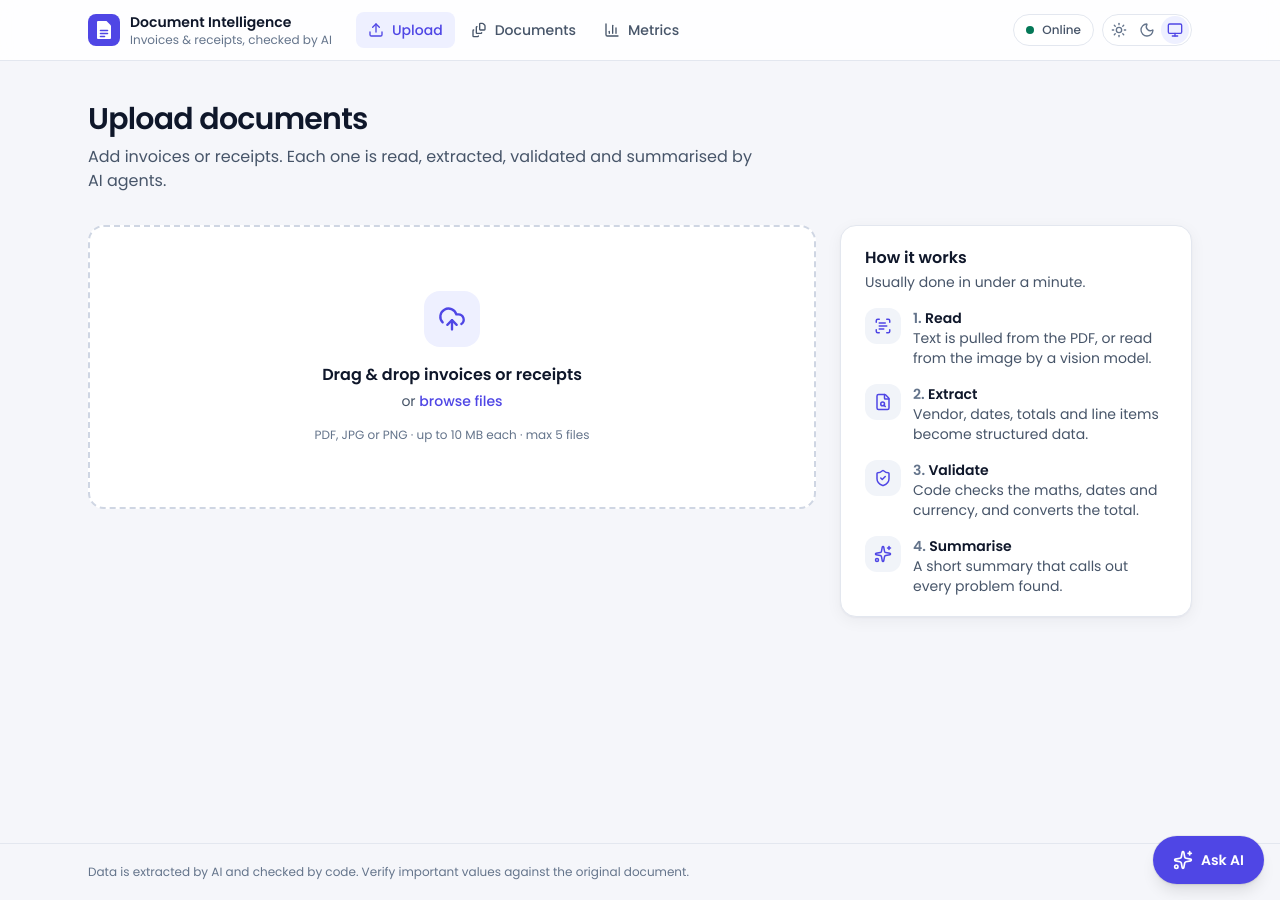
Test: Ask AI chat (feature 0010) › flags unverified numbers and shows a refusal plainly
Click the button with aria-label "Ask AI about your invoices": (1208, 860) [1153, 836, 1264, 884]
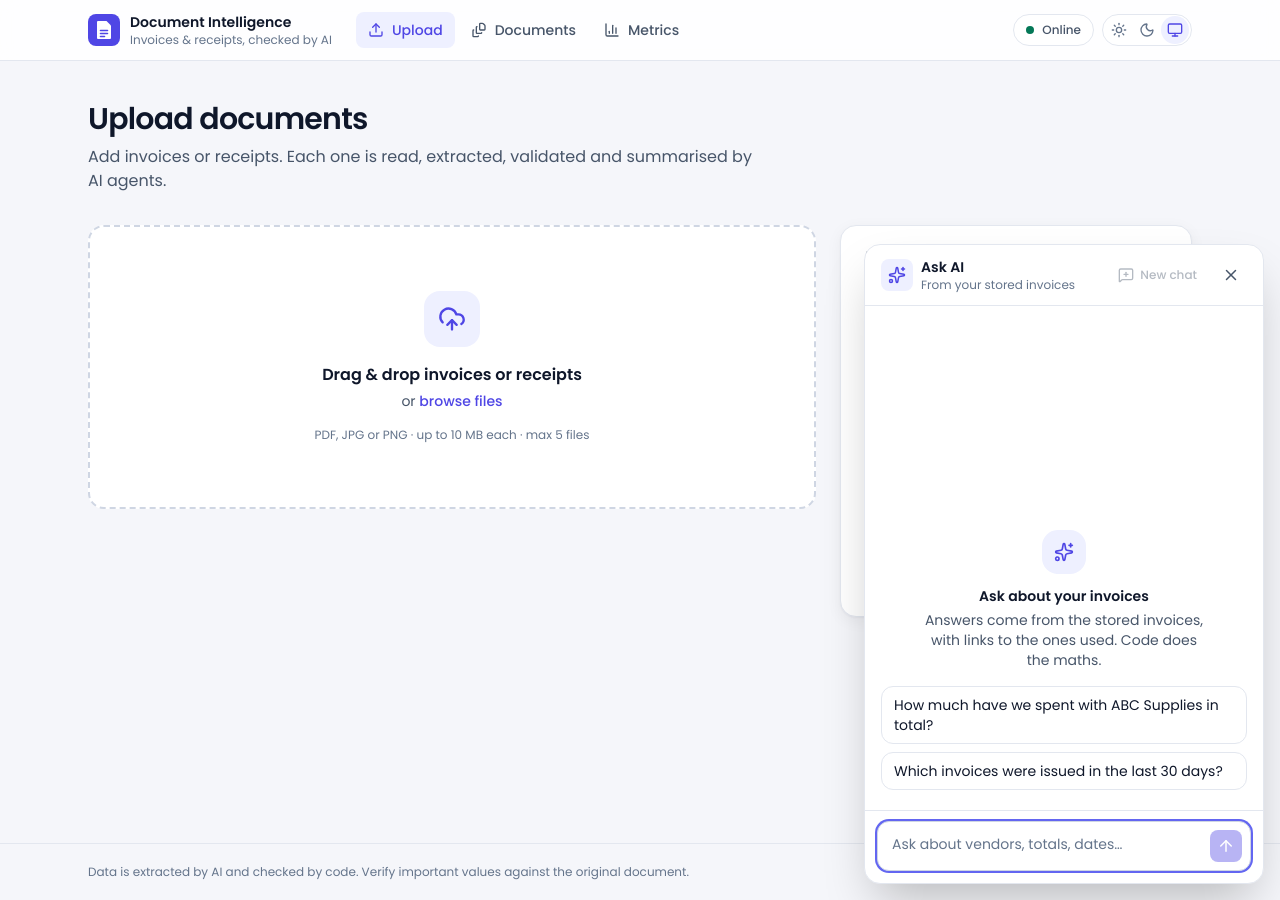
In the text box named "Your question": (1044, 846) [886, 828, 1202, 864], type "Total for ABC?"
Then press Enter
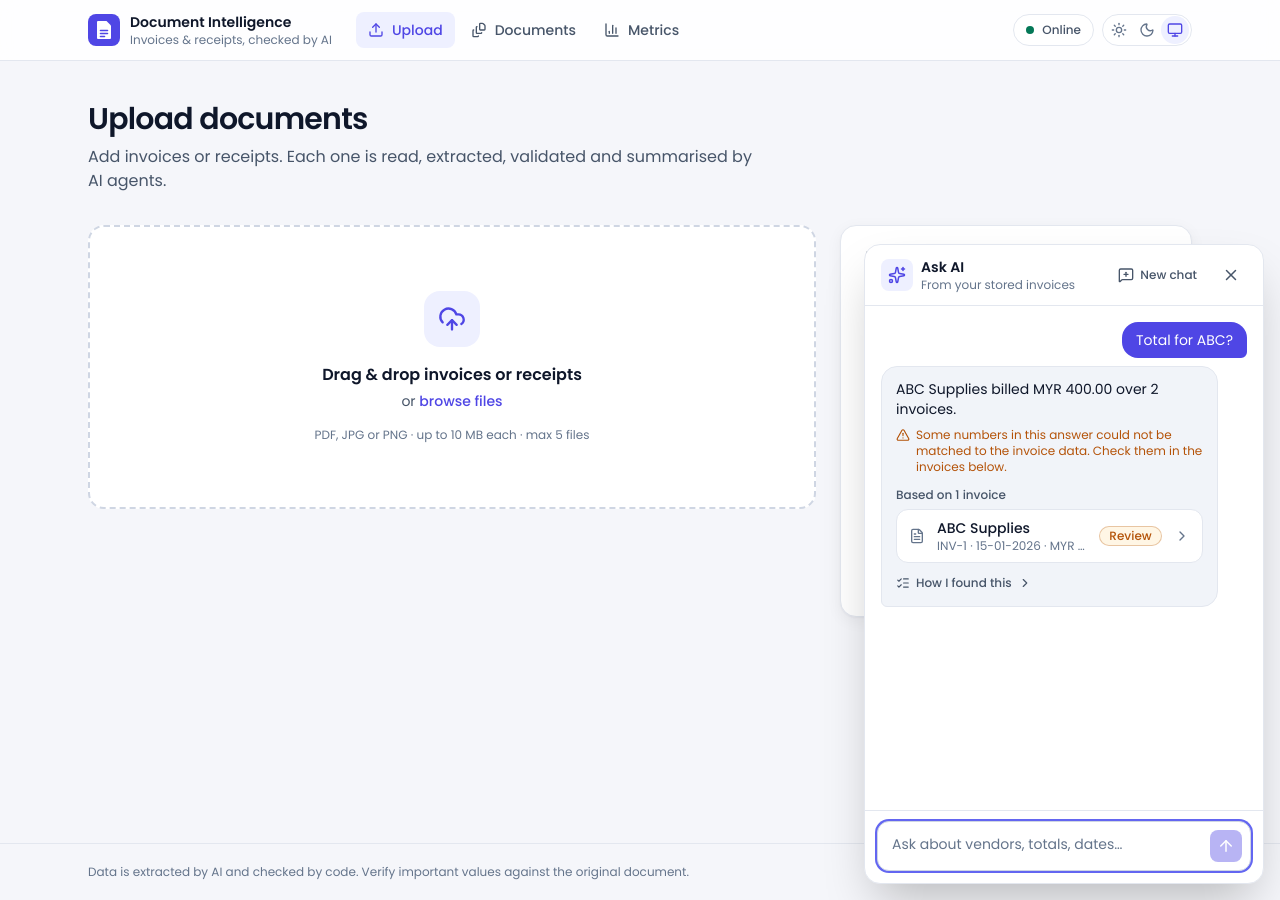
expect the text "could not be matched to the invoice data" is shown: met, box [916, 426, 1202, 475]
In the text box named "Your question": (1044, 846) [886, 828, 1202, 864], type "Capital of France?"
Then press Enter
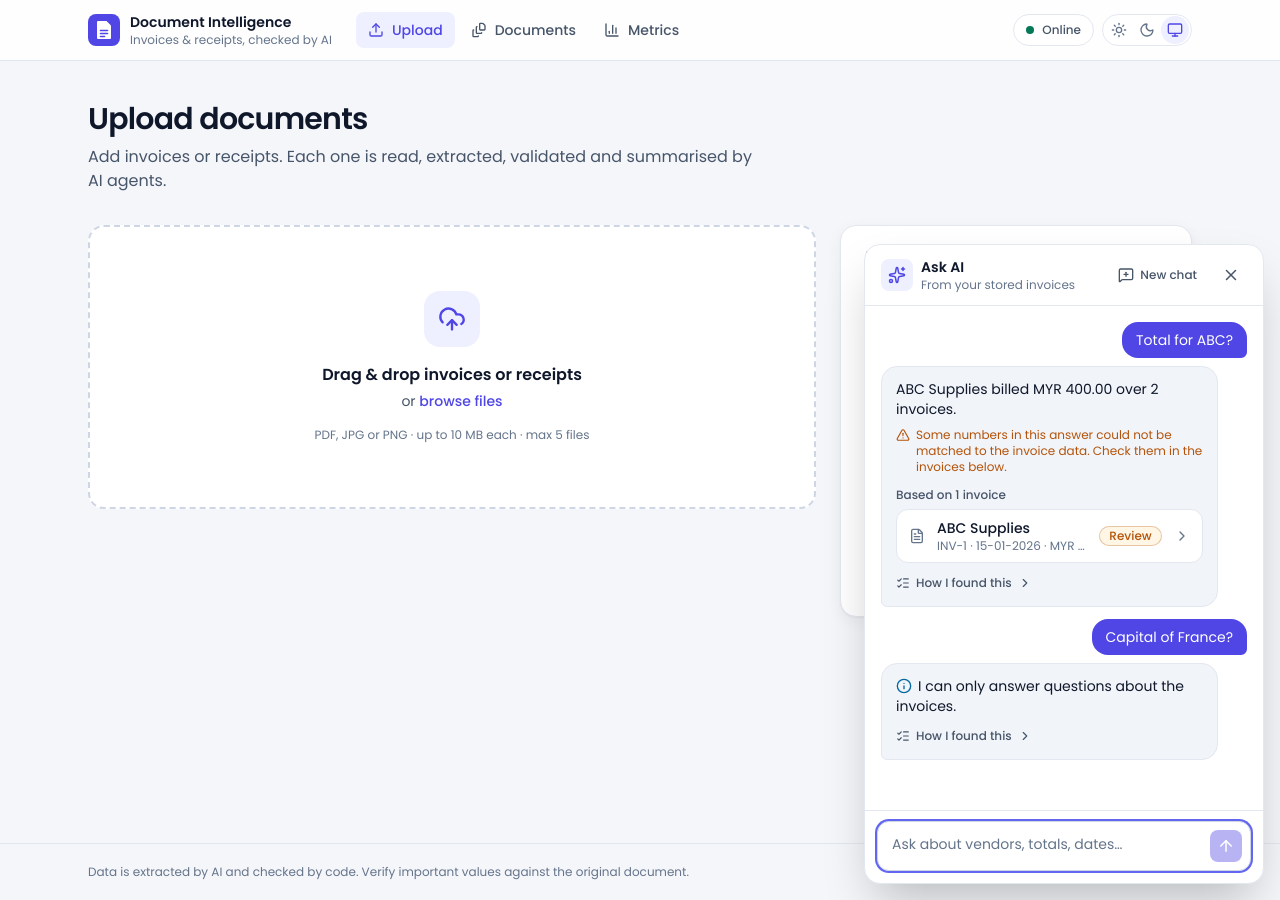
expect the text "I can only answer questions about the invoices." is shown: met, box [896, 676, 1203, 716]
